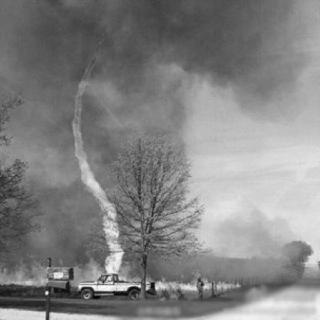Fire: (66, 24, 127, 288), (1, 248, 243, 292)
Smoke: (124, 1, 288, 113), (5, 6, 74, 230), (227, 216, 294, 284)
